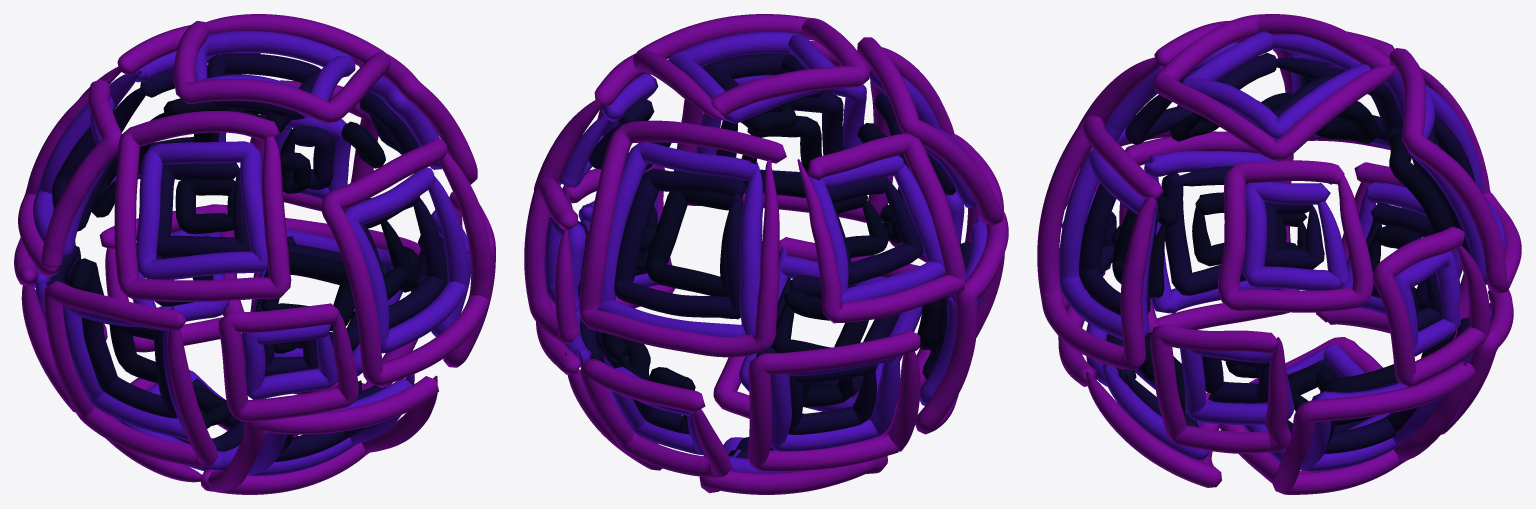
3 renders of one model, left to right at view 1: azimuth 30°, elevation 25°; view 2: azimuth 150°, elevation 25°; view 3: azimuth 270°, elevation 25°, orthographic.
Visible parts, largest first — view 1: Untitled_25_Wire_geo; view 2: Untitled_25_Wire_geo; view 3: Untitled_25_Wire_geo.
Boxes of the visible parts, box(x1,y1,x2,y2) form: Untitled_25_Wire_geo: box(14, 14, 495, 494); Untitled_25_Wire_geo: box(524, 14, 1008, 494); Untitled_25_Wire_geo: box(1037, 14, 1521, 494).
Bounding box in the file's own units: 3.27 × 3.2 × 3.26.
